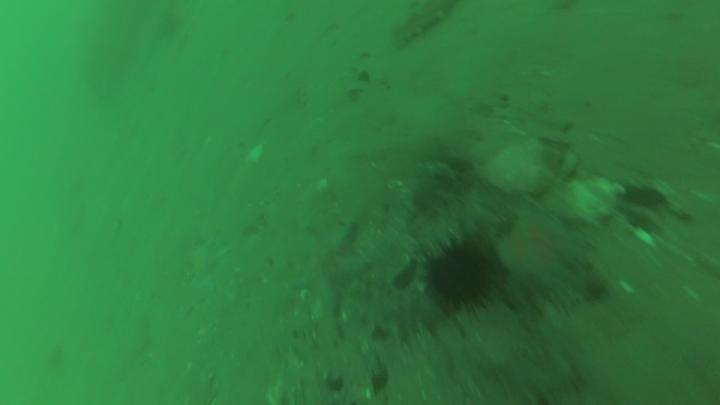echinus: (430, 245, 491, 306)
holothurian: (403, 189, 494, 265), (369, 289, 441, 338), (393, 1, 456, 51)
starfish: (499, 212, 591, 297), (292, 227, 368, 313)
